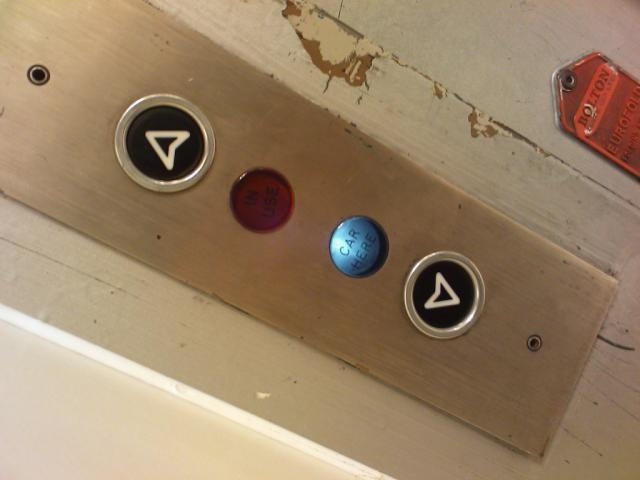down: (402, 247, 488, 341)
text: (229, 165, 296, 235), (326, 213, 390, 281)
up: (112, 91, 217, 197)
